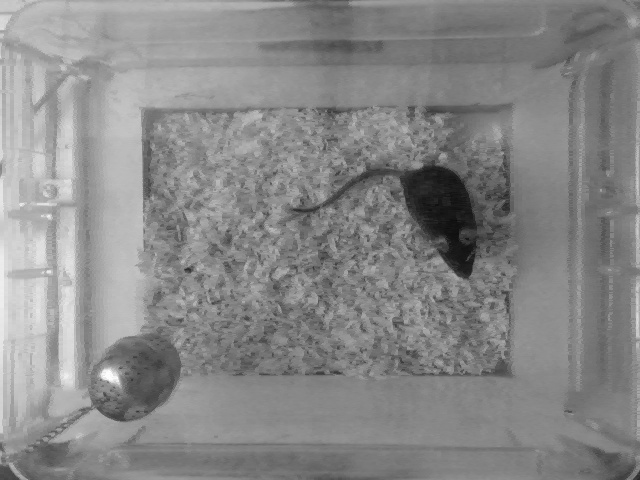mice: (291, 161, 486, 280)
